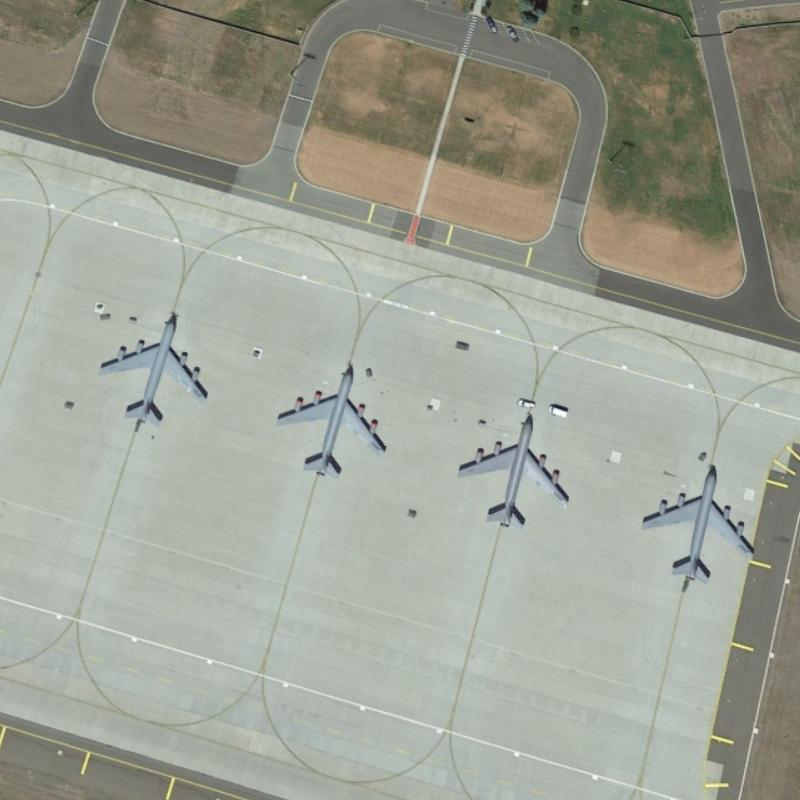A14: (268, 349, 397, 486), (92, 297, 216, 432), (639, 454, 764, 583), (450, 408, 576, 535)
